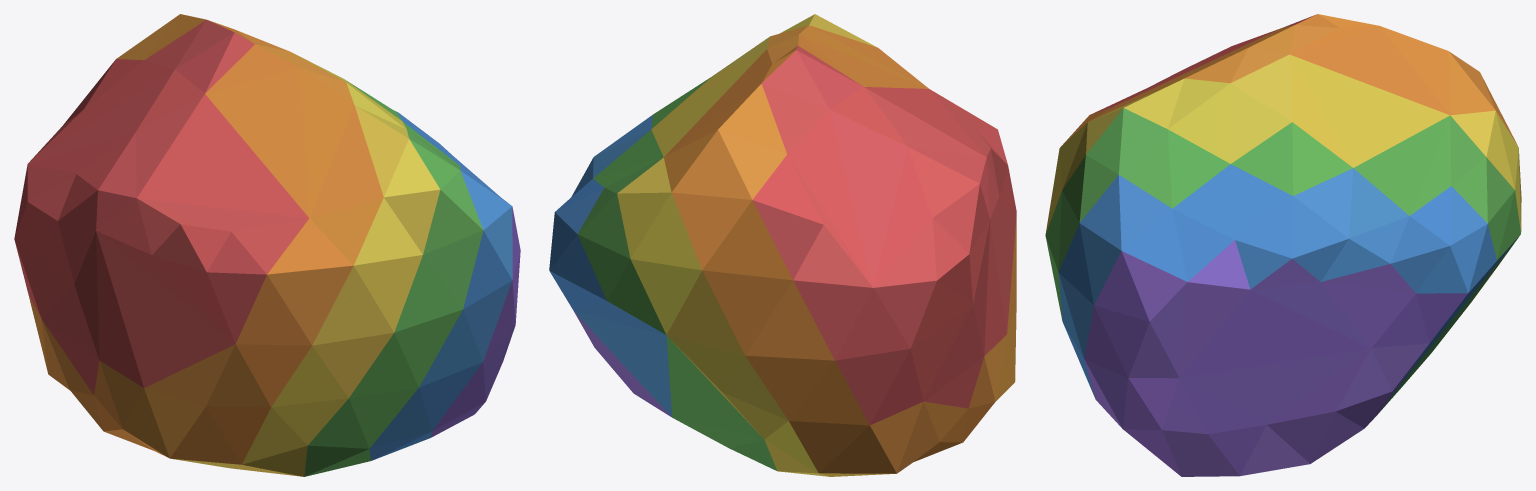
Rendered from Prism_Shard.glb.
3 views of the same model, side by side, from view 1: azimuth 30°, elevation 25°; view 2: azimuth 150°, elevation 25°; view 3: azimuth 270°, elevation 25° (orthographic). The views are drawn at different scales.
Visible parts, largest first — view 1: Prism_Shard; view 2: Prism_Shard; view 3: Prism_Shard.
Boxes of the visible parts, left/top/right/bottom form: Prism_Shard: left=14, top=14, right=520, bottom=476; Prism_Shard: left=549, top=14, right=1016, bottom=476; Prism_Shard: left=1045, top=14, right=1521, bottom=476.
Size of the model in its own units: 0.8402 by 0.8038 by 0.9177.
